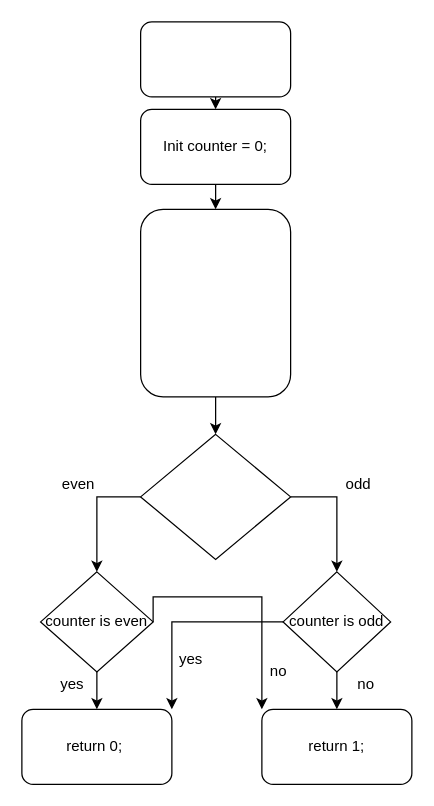
Image size: 434x806. Some labels were removed from this diagram. The shapes that lost their labels are listed below. From the top down, each one's centre as x and y in pixels, then its label:
At point (215, 59): "get_parity".
At point (215, 302): "for(int i =0; i<8; i++) if(data & 1) counter++; data >> 1;".
At point (215, 496): "type : even or odd?".
